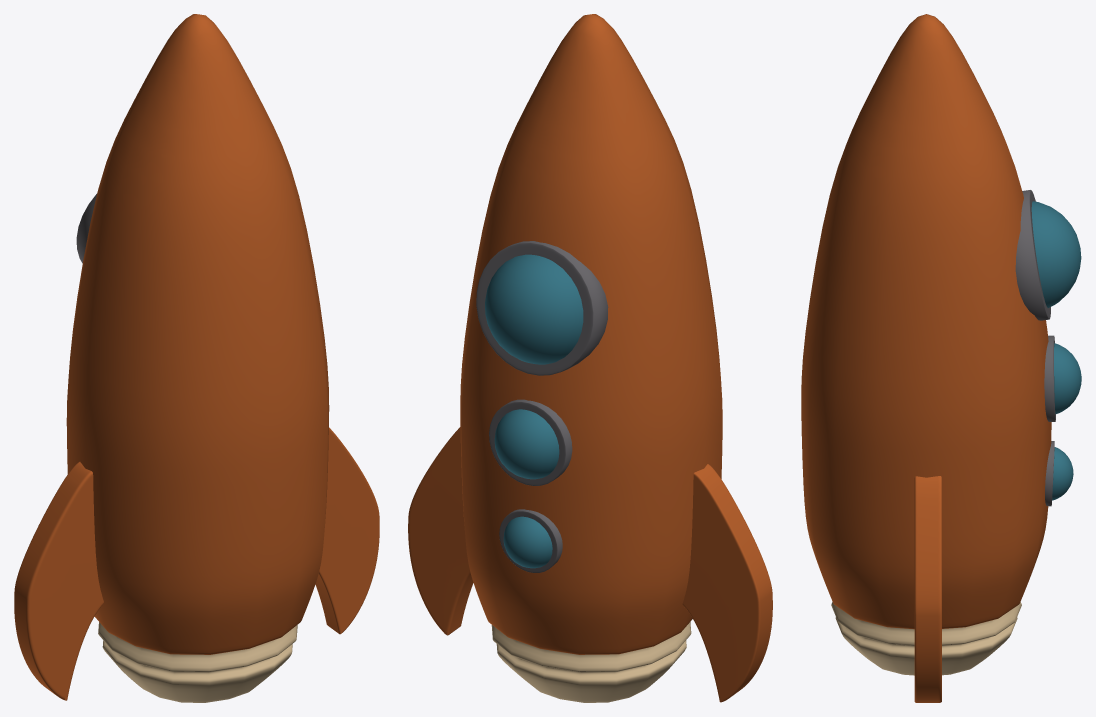
Rendered from Ship Dark Orange.fbx.
The picture shows the model from 3 angles, left to right: view 1: azimuth 30°, elevation 25°; view 2: azimuth 150°, elevation 25°; view 3: azimuth 270°, elevation 25°; orthographic projection. The views are drawn at different scales.
Parts seen in each view (by area): view 1: Body, Fin2, Fin2.001, Window Cover; view 2: Body, Fin2, Fin2.001, Glass Window, Window Cover, Glass Window.001, Window Cover.001, Glass Window.002, Window Cover.002; view 3: Body, Fin2.001, Glass Window, Window Cover, Glass Window.001, Glass Window.002, Window Cover.001, Window Cover.002.
Part boxes in pixels (box(x1,y1,x2,y2)): Body: box(66, 14, 329, 702); Fin2: box(14, 461, 103, 700); Fin2.001: box(315, 427, 379, 634); Window Cover: box(76, 193, 97, 262); Body: box(460, 14, 722, 702); Fin2: box(682, 464, 772, 702); Fin2.001: box(408, 427, 473, 635); Glass Window: box(485, 254, 583, 364); Window Cover: box(476, 241, 608, 375); Glass Window.001: box(494, 409, 559, 479); Window Cover.001: box(489, 399, 572, 485); Glass Window.002: box(503, 516, 552, 568); Window Cover.002: box(499, 509, 562, 572); Body: box(801, 14, 1051, 675); Fin2.001: box(914, 476, 941, 702); Glass Window: box(1031, 201, 1081, 307); Window Cover: box(1015, 190, 1050, 320); Glass Window.001: box(1054, 343, 1081, 413); Glass Window.002: box(1052, 447, 1073, 500); Window Cover.001: box(1044, 335, 1055, 421); Window Cover.002: box(1045, 441, 1054, 506).
Size of the model in its own units: 250 by 451 by 179.
